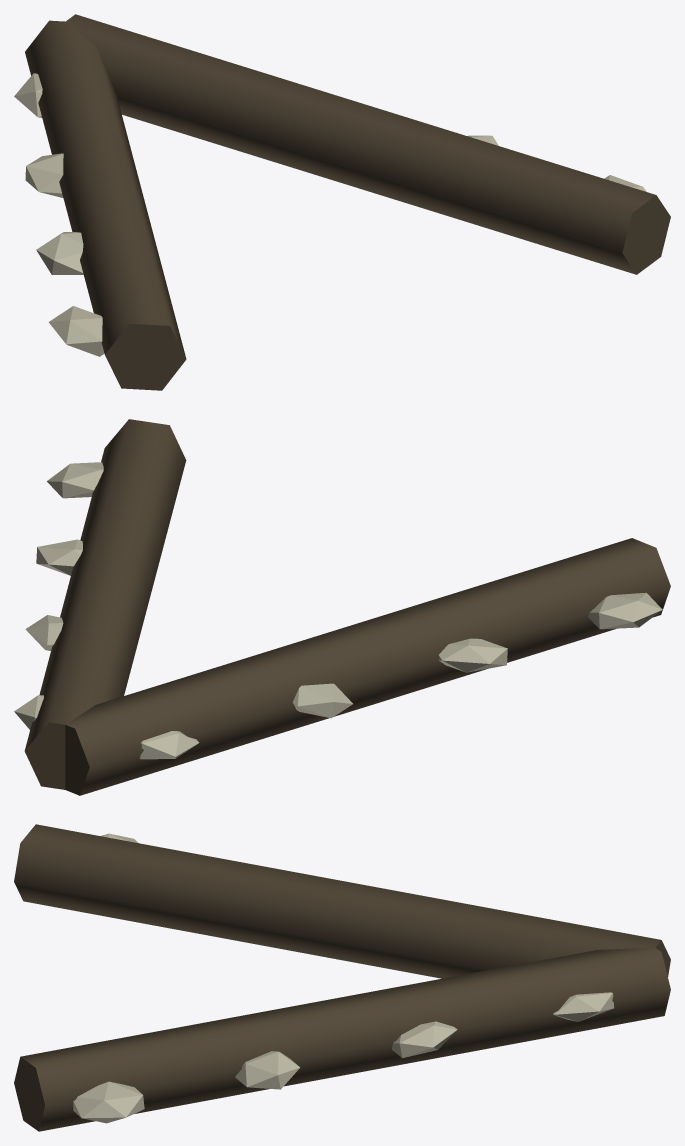
Rendered from split-path.glb.
3 renders of one model, top to bottom at view 1: azimuth 30°, elevation 25°; view 2: azimuth 150°, elevation 25°; view 3: azimuth 270°, elevation 25°, orthographic. The views are drawn at different scales.
Visible parts, largest first — view 1: split-path; view 2: split-path; view 3: split-path.
Part boxes in pixels (<box>): split-path: <box>14,14,670,390</box>; split-path: <box>14,419,670,795</box>; split-path: <box>14,824,670,1131</box>.
Size of the model in its own units: 1.67 by 0.1832 by 1.68.
